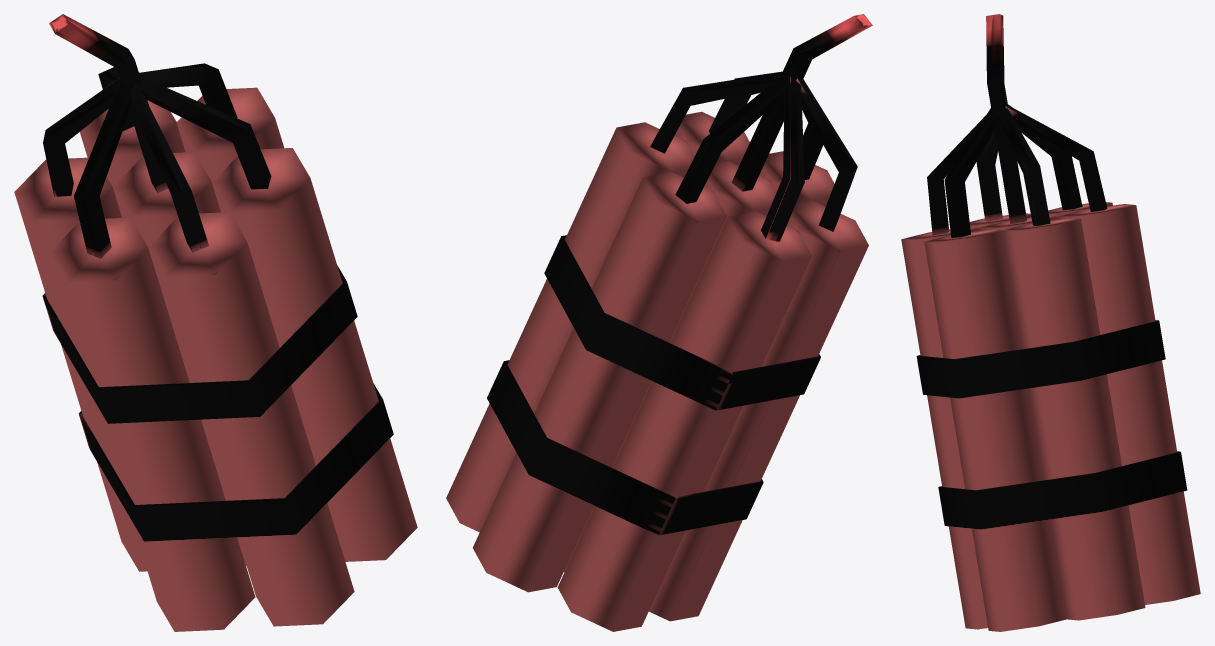
Rendered from Dynamite.fbx.
3 renders of one model, left to right at view 1: azimuth 30°, elevation 25°; view 2: azimuth 150°, elevation 25°; view 3: azimuth 270°, elevation 25°, orthographic. The views are drawn at different scales.
Visible parts, largest first — view 1: Dynamite; view 2: Dynamite; view 3: Dynamite.
Boxes of the visible parts, x1,y1,x2,y2 form: Dynamite: [14, 14, 417, 631]; Dynamite: [446, 14, 872, 631]; Dynamite: [901, 14, 1200, 631].
Size of the model in its own units: 23.69 by 39.13 by 19.73.
Materials: 1 (1 with a texture image).
